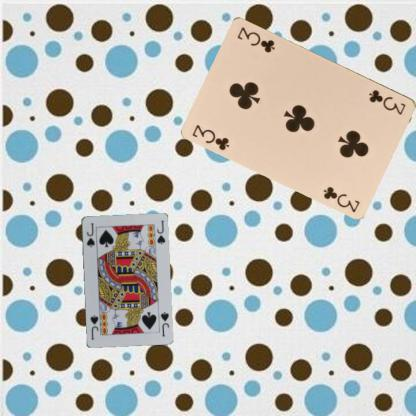3c: (190, 122, 231, 152), (366, 87, 408, 116)
Js: (158, 309, 170, 338), (84, 220, 96, 248)
